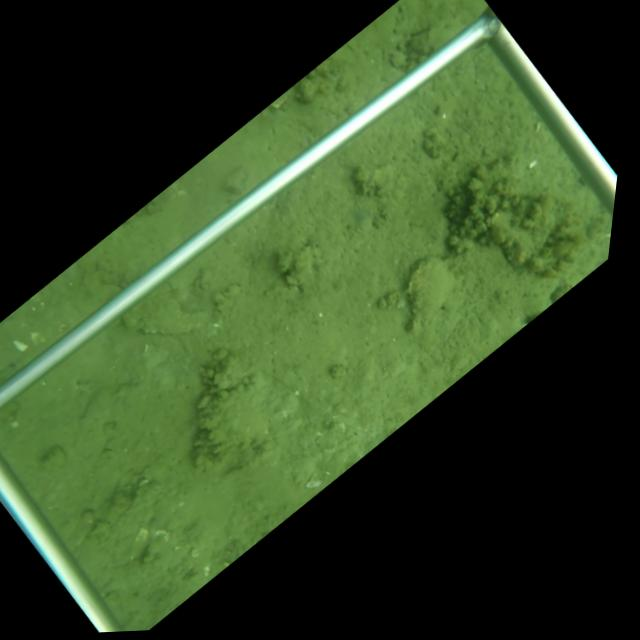Oyster-Indeterminate: (197, 376, 271, 455), (403, 254, 456, 333)
